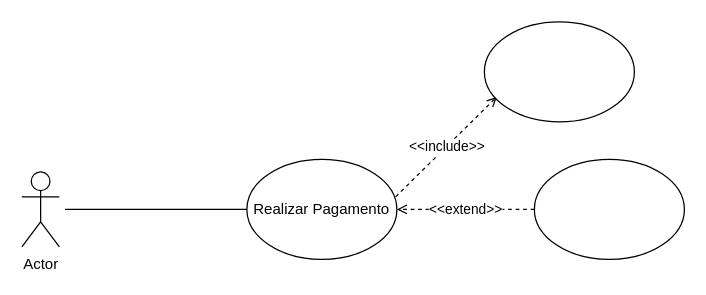
Image size: 706x295. Some labels were removed from this diagram. The centre of each missing label's shape, as x and y in pixels:
"Realizar pagamento com cartão de crédito" goes at (558,71).
"Realizar pagamento com cartão de débito" goes at (608,208).
